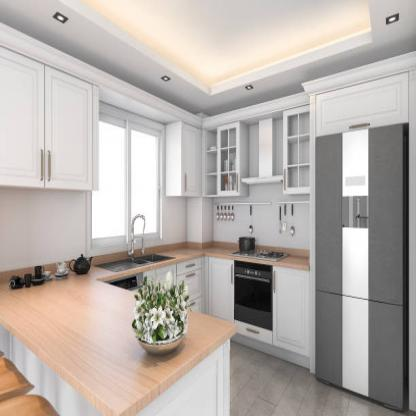Window: (91, 97, 167, 248)
